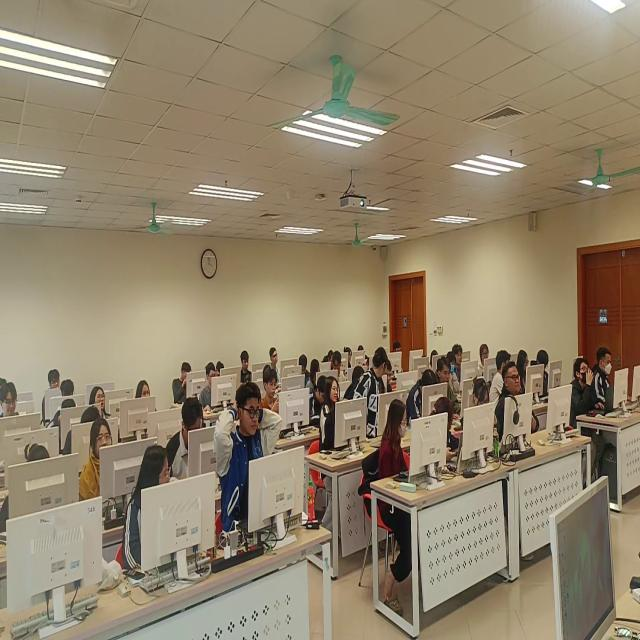raise_head: (215, 395, 276, 519), (80, 421, 128, 508), (501, 365, 553, 443), (321, 378, 351, 488), (569, 366, 600, 441), (135, 380, 160, 429), (1, 384, 25, 429), (89, 387, 114, 421), (266, 349, 292, 377), (43, 370, 63, 401), (476, 340, 493, 375), (452, 344, 469, 376)
stand: (357, 350, 389, 450)
using_computer: (7, 447, 61, 520), (595, 351, 640, 416), (469, 381, 503, 455), (436, 361, 470, 416), (64, 411, 102, 458), (201, 363, 232, 417), (52, 398, 82, 444), (533, 351, 560, 401), (236, 352, 258, 390)
using_phone: (260, 374, 294, 427)
